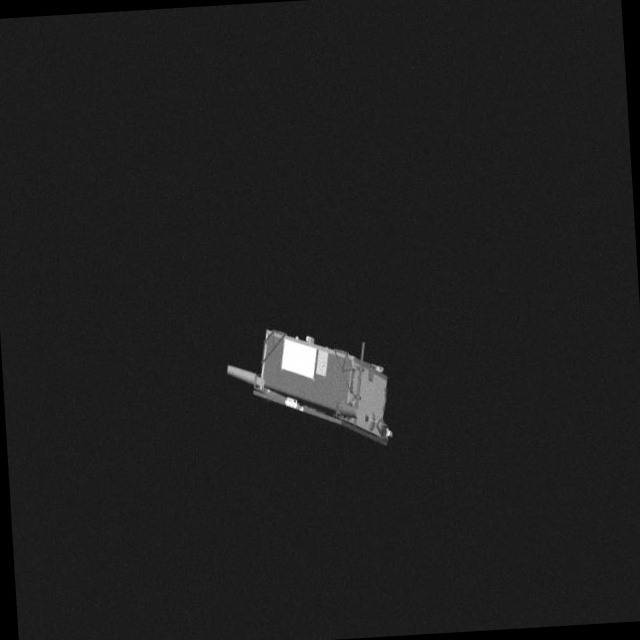satellite: (214, 319, 418, 460)
